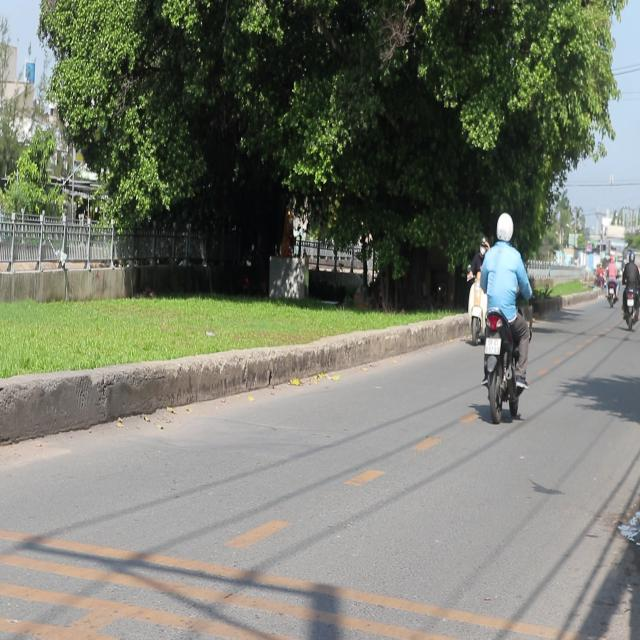helmet: (495, 212, 513, 244)
licenseplate: (478, 210, 534, 421)
nohelmet: (484, 338, 501, 355)
